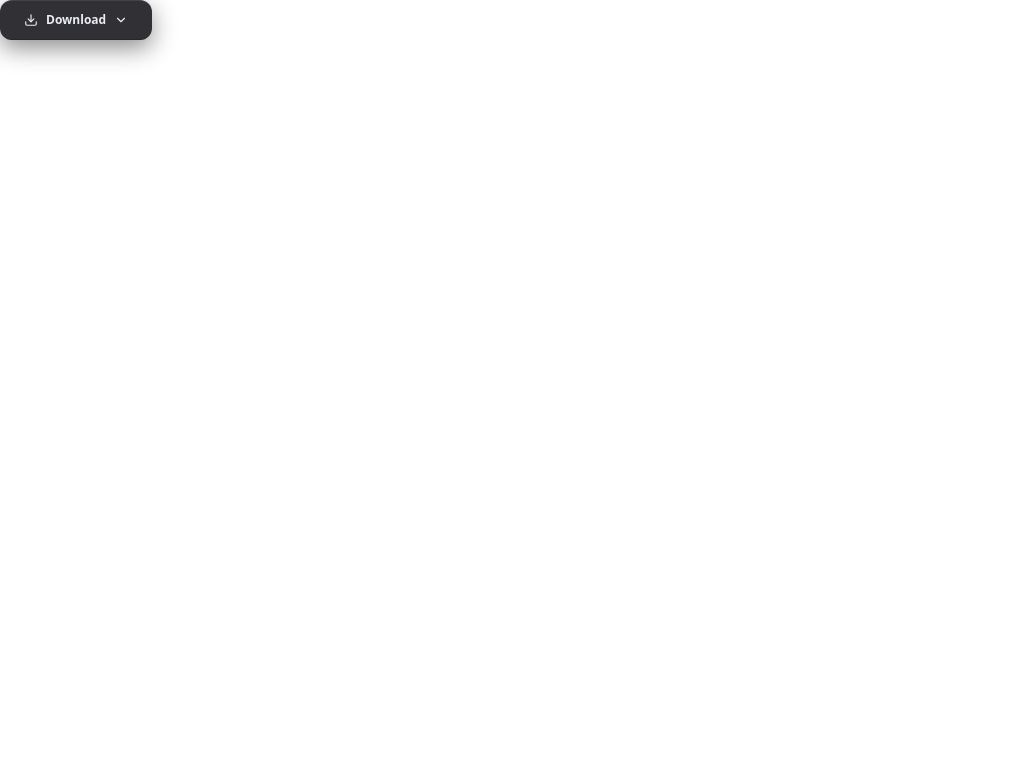
Knowledge Base Download menu › keeps a real file link available when the native picker is missing
Later steps or results of the test are not shown.
Press ArrowDown in the button with aria-label "Download Knowledge Base", box 0,0 -> 152,40
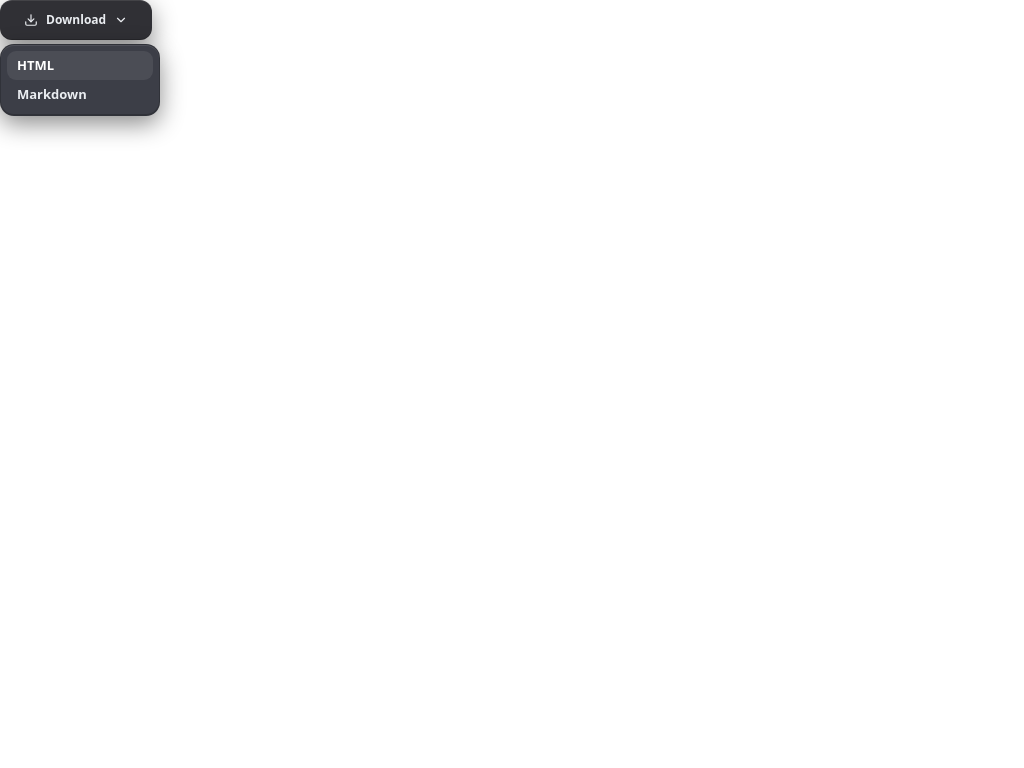
Click the menu item "HTML" at coordinates (80, 66), box 7,51 -> 153,80
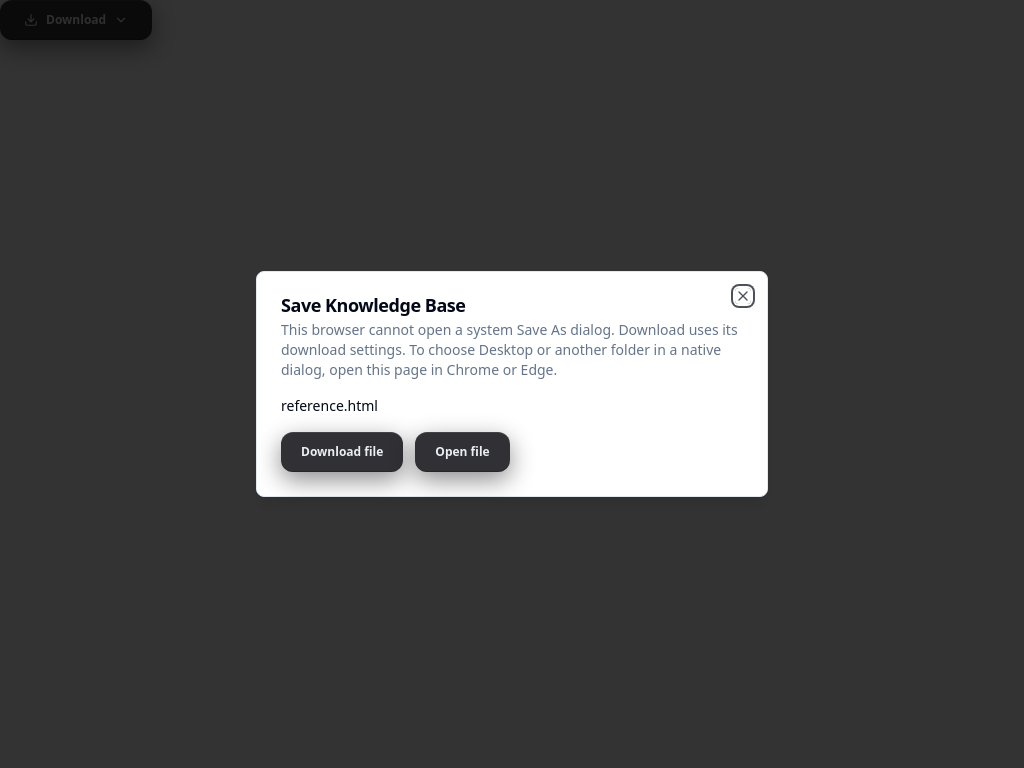
Check: the dialog "Save Knowledge Base" shows "cannot open a system Save As dialog", box 281,320 -> 738,379
Click the link "Download file" at coordinates (342, 452), box 281,432 -> 403,472
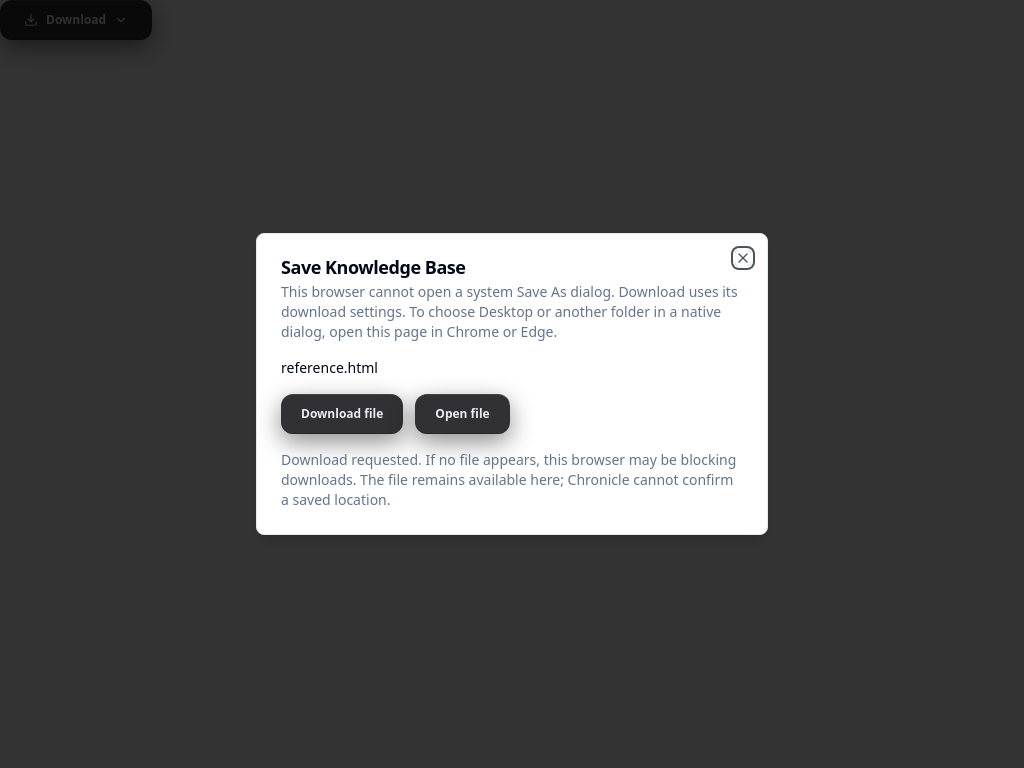
Check: the message shows "Download requested", box 281,450 -> 736,509
